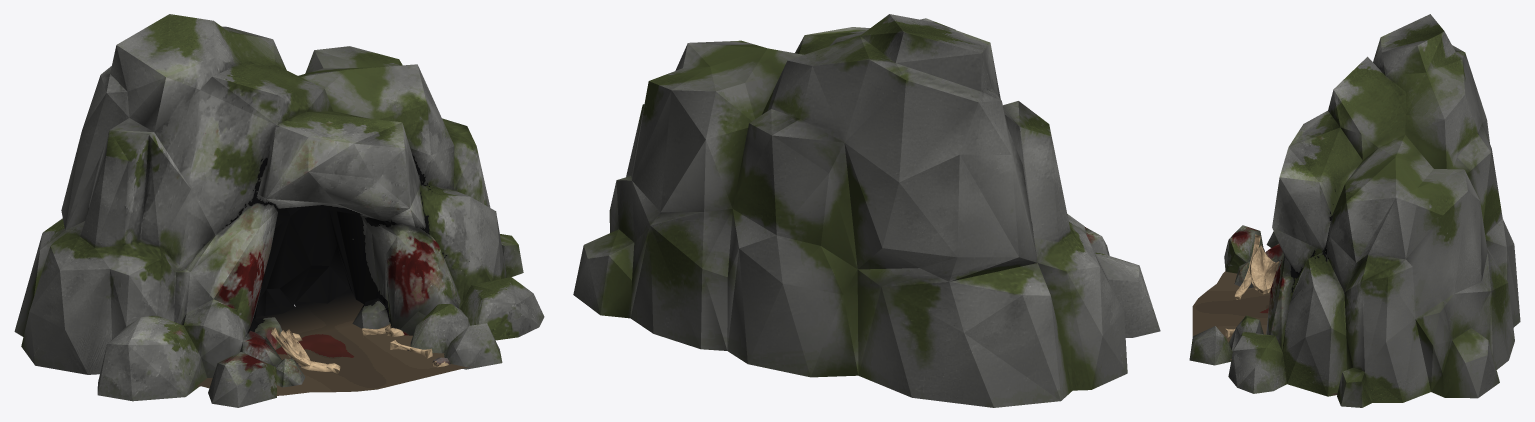
The model's file is SM_WolfDenCave.fbx.
The picture shows the model from 3 angles, left to right: view 1: azimuth 30°, elevation 25°; view 2: azimuth 150°, elevation 25°; view 3: azimuth 270°, elevation 25°; orthographic projection. The views are drawn at different scales.
Visible parts, largest first — view 1: SM_WolfDenCave; view 2: SM_WolfDenCave; view 3: SM_WolfDenCave.
Boxes of the visible parts, x1,y1,x2,y2 form: SM_WolfDenCave: (14,14,544,407); SM_WolfDenCave: (573,14,1160,407); SM_WolfDenCave: (1189,14,1520,407).
Size of the model in its own units: 433 by 256 by 307.
Materials: 1 (1 with a texture image).
